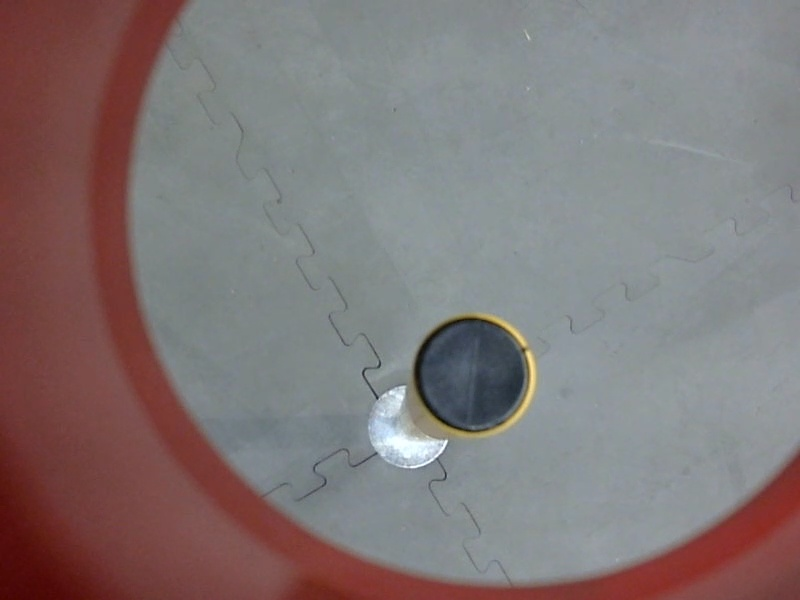tip: (408, 308, 540, 442)
